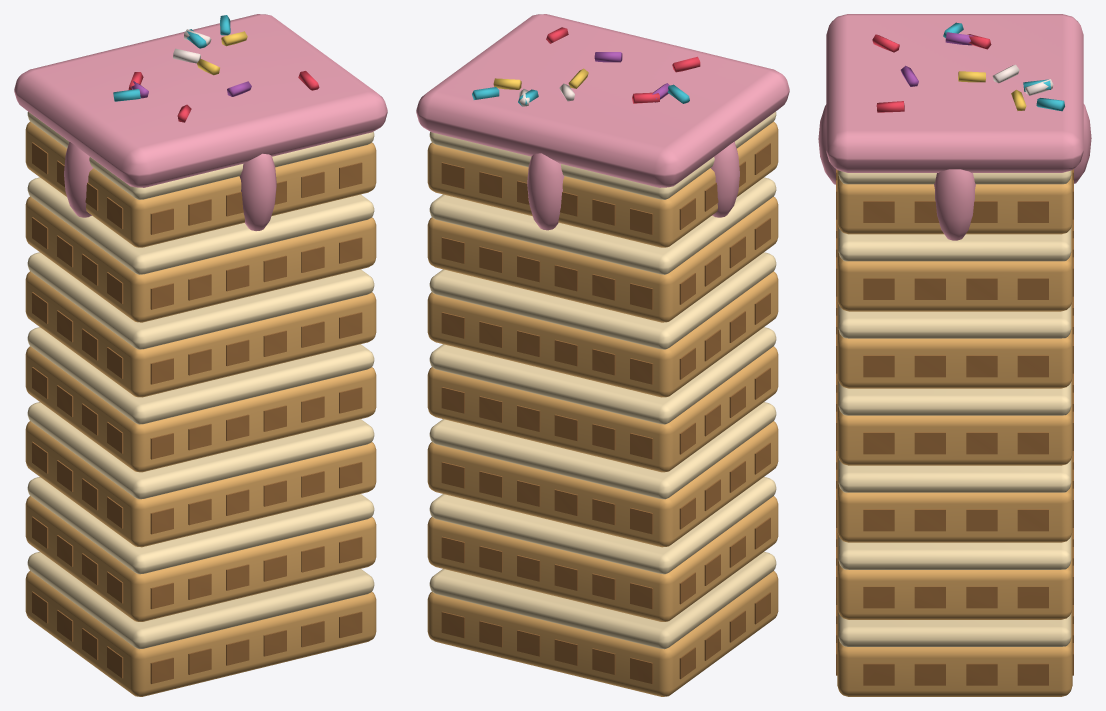
Rendered from wafer-pillar.glb.
3 views of the same model, side by side, from view 1: azimuth 30°, elevation 25°; view 2: azimuth 150°, elevation 25°; view 3: azimuth 270°, elevation 25° (orthographic). The views are drawn at different scales.
Visible parts, largest first — view 1: Icing cap, Baked wafer.005, Baked wafer.004, Baked wafer, Baked wafer.003, Baked wafer.002, Baked wafer.001, Baked wafer.006, Cream filling.004, Cream filling.003, Cream filling, Cream filling.001 (+5 smaller); view 2: Icing cap, Baked wafer.005, Baked wafer.004, Baked wafer.002, Baked wafer.003, Baked wafer, Baked wafer.001, Baked wafer.006, Cream filling.004, Cream filling.003, Cream filling, Cream filling.001 (+5 smaller); view 3: Icing cap, Baked wafer.005, Baked wafer.004, Baked wafer.002, Baked wafer.003, Baked wafer.001, Baked wafer, Baked wafer.006, Cream filling.001, Cream filling.003, Cream filling.004, Cream filling.002 (+34 smaller).
Boxes of the visible parts, <box> form: Icing cap: <box>14,14,387,187</box>; Baked wafer.005: <box>25,196,376,322</box>; Baked wafer.004: <box>25,271,376,397</box>; Baked wafer: <box>25,571,376,696</box>; Baked wafer.003: <box>25,346,376,472</box>; Baked wafer.002: <box>25,421,376,547</box>; Baked wafer.001: <box>25,496,376,621</box>; Baked wafer.006: <box>25,121,376,247</box>; Cream filling.004: <box>27,252,374,349</box>; Cream filling.003: <box>27,327,374,424</box>; Cream filling: <box>27,551,374,649</box>; Cream filling.001: <box>27,477,374,574</box>; Icing cap: <box>416,14,789,187</box>; Baked wafer.005: <box>427,196,778,322</box>; Baked wafer.004: <box>427,271,778,397</box>; Baked wafer.002: <box>427,421,778,547</box>; Baked wafer.003: <box>427,346,778,472</box>; Baked wafer: <box>427,571,778,696</box>; Baked wafer.001: <box>427,496,778,621</box>; Baked wafer.006: <box>427,121,778,247</box>; Cream filling.004: <box>429,252,776,349</box>; Cream filling.003: <box>429,327,776,424</box>; Cream filling: <box>429,551,776,649</box>; Cream filling.001: <box>429,477,776,574</box>; Icing cap: <box>826,14,1083,172</box>; Baked wafer.005: <box>837,223,1072,311</box>; Baked wafer.004: <box>837,300,1072,388</box>; Baked wafer.002: <box>837,455,1072,542</box>; Baked wafer.003: <box>837,378,1072,465</box>; Baked wafer.001: <box>837,532,1072,619</box>; Baked wafer: <box>837,609,1072,696</box>; Baked wafer.006: <box>837,170,1072,234</box>; Cream filling.001: <box>838,536,1071,569</box>; Cream filling.003: <box>838,382,1071,415</box>; Cream filling.004: <box>838,305,1071,338</box>; Cream filling.002: <box>838,459,1071,492</box>.
Bounding box in the file's own units: 1.42 × 2.84 × 1.22.
